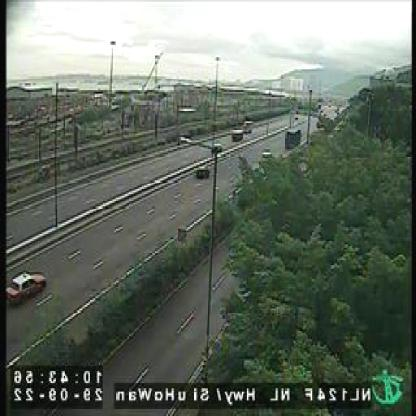Car: (6, 272, 47, 305), (195, 163, 212, 184), (209, 140, 224, 154)
Truck: (283, 128, 303, 147)
